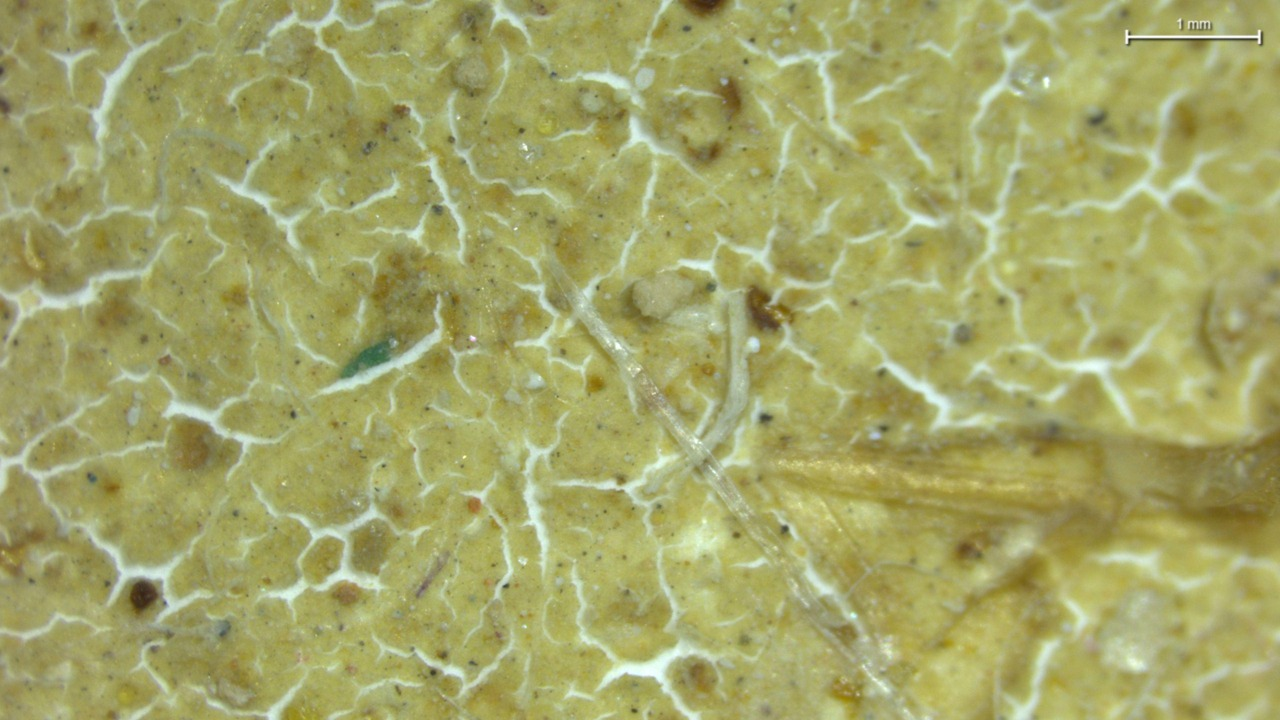microplastic_fragment: (628, 271, 695, 320)
